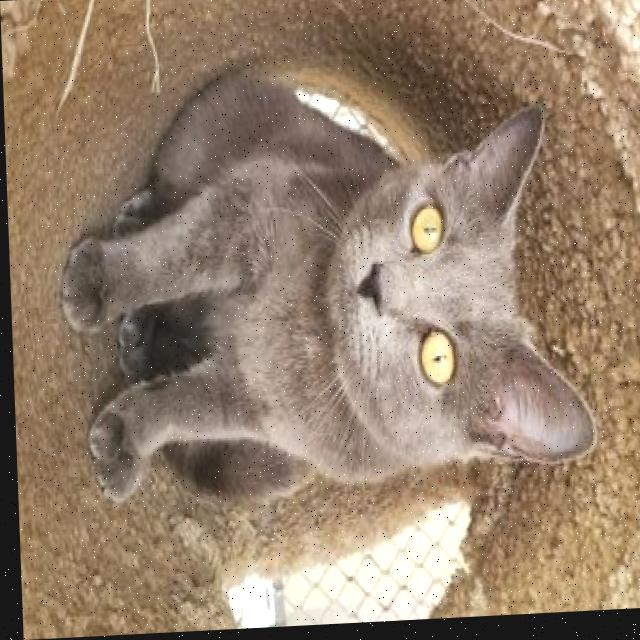Russian Blue: (51, 57, 596, 513)
